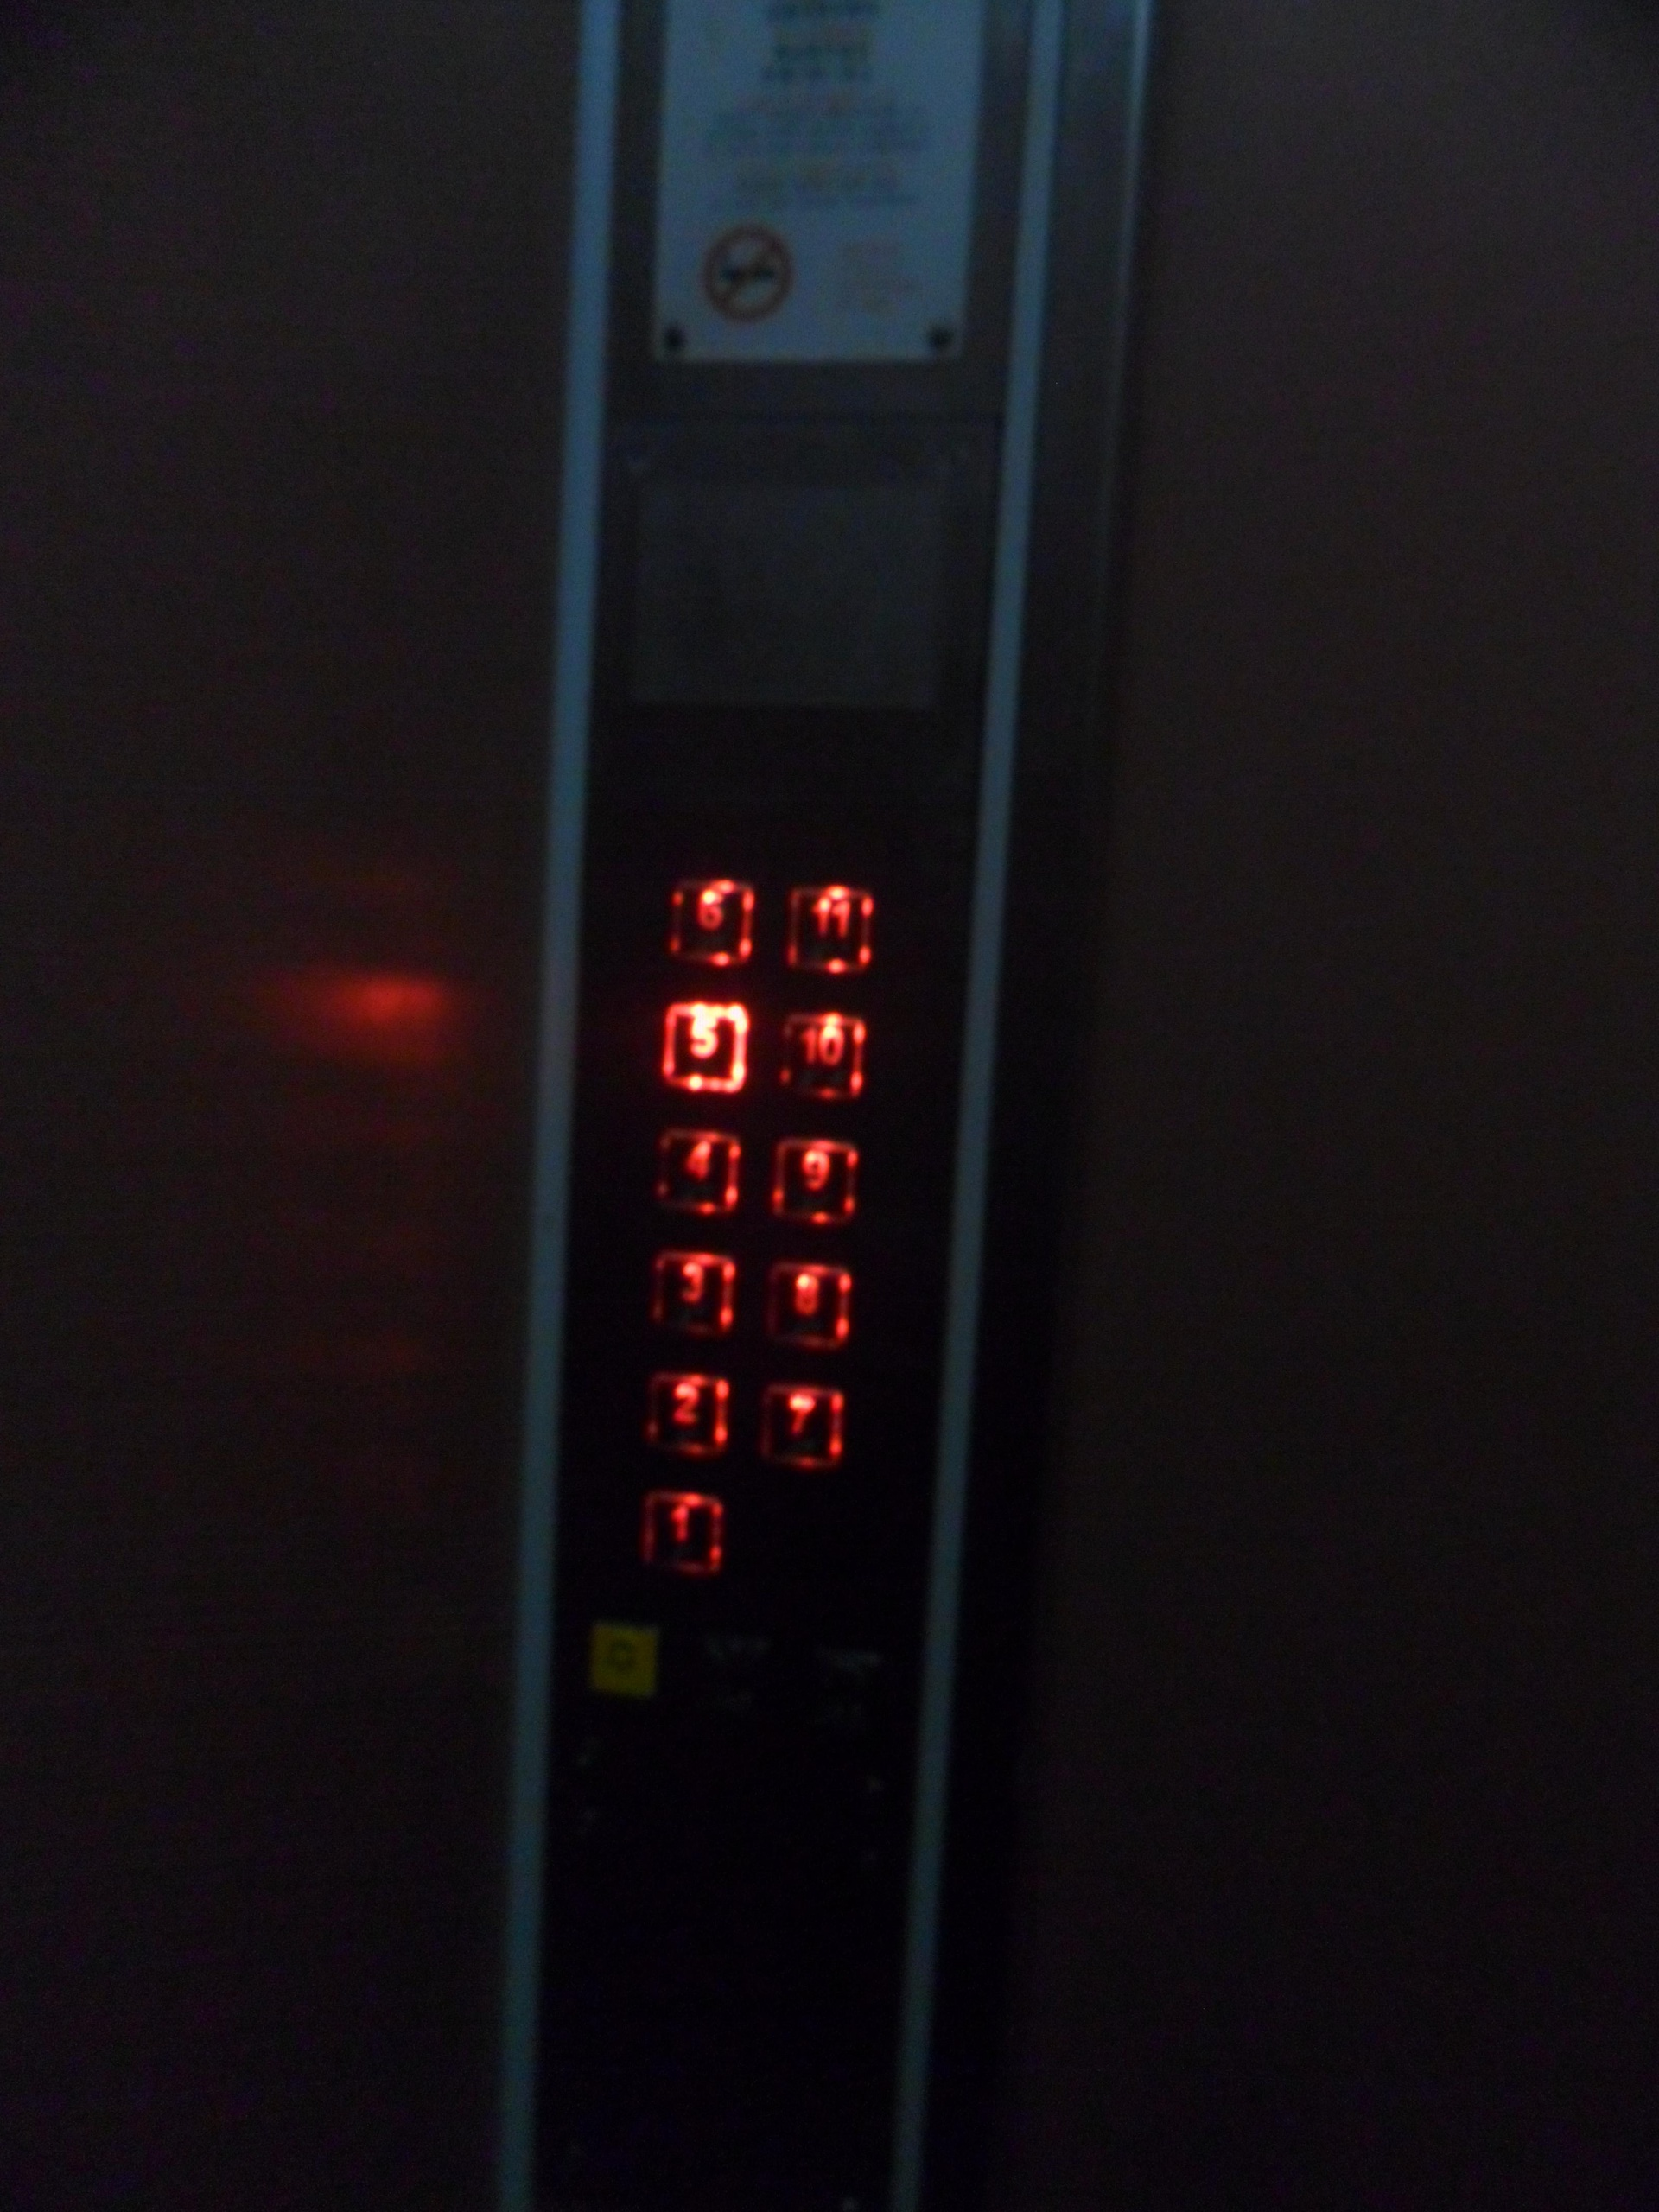1: (636, 1489, 728, 1578)
10: (774, 1007, 866, 1106)
11: (784, 878, 875, 977)
2: (643, 1367, 734, 1456)
3: (650, 1247, 741, 1336)
4: (652, 1127, 742, 1216)
5: (660, 996, 751, 1096)
6: (666, 873, 758, 972)
7: (753, 1379, 845, 1468)
8: (762, 1258, 852, 1346)
9: (769, 1134, 861, 1233)
alarm: (573, 1615, 666, 1703)
